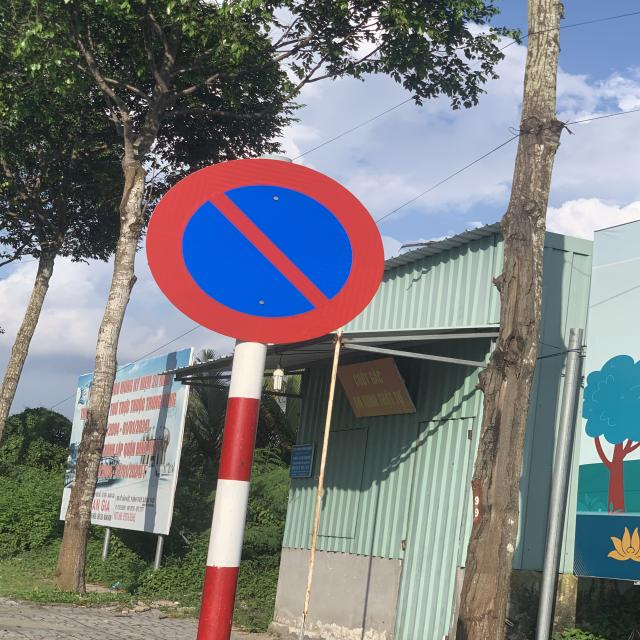Cam_Dau_Xe: (146, 159, 387, 344)
